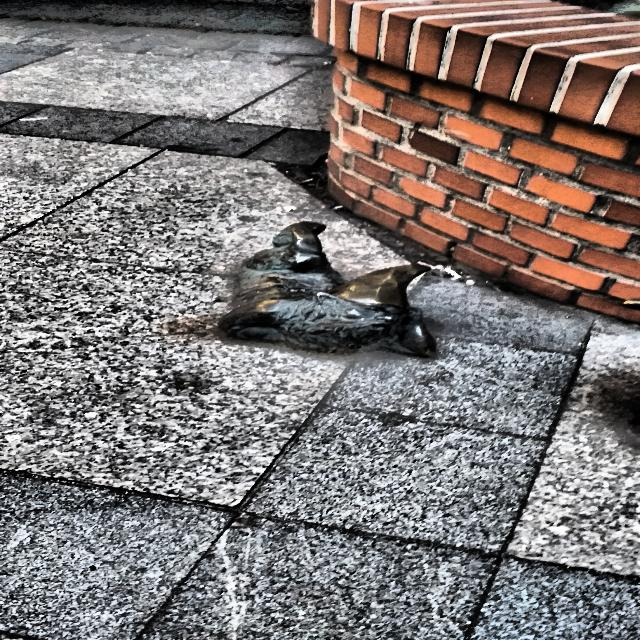Grajek_i_Meloman: (216, 222, 438, 359)
